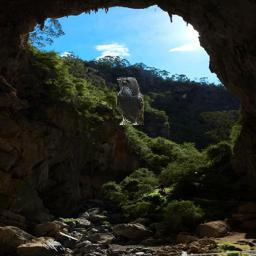Crow: (116, 77, 144, 125)
